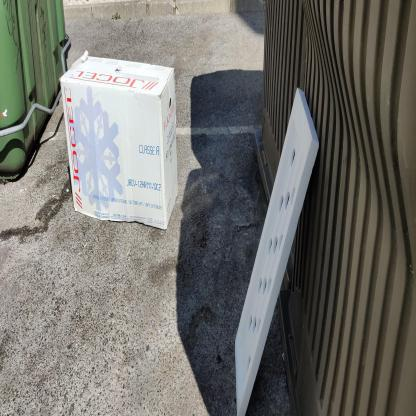karton: (60, 49, 180, 235)
kopuk: (235, 87, 322, 416)
